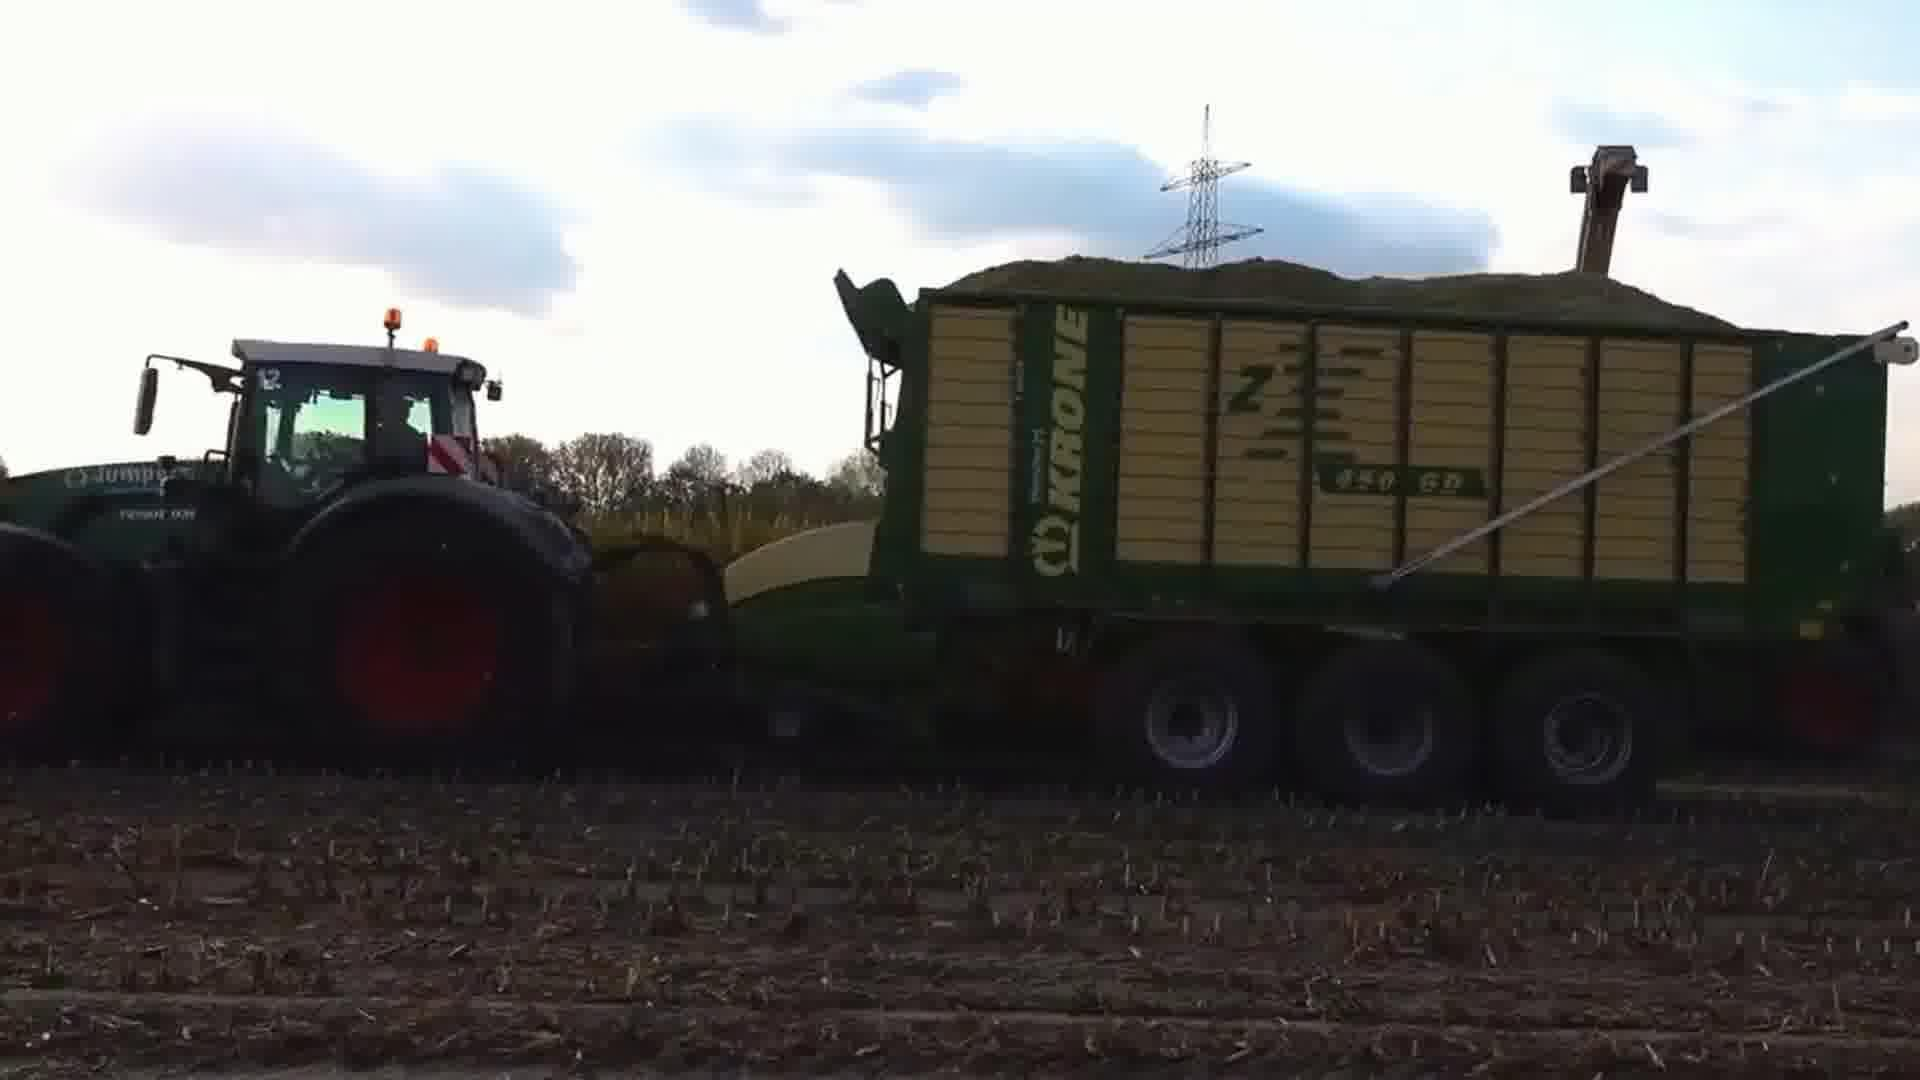tractor: (0, 301, 615, 787)
trailer: (657, 244, 1920, 825)
